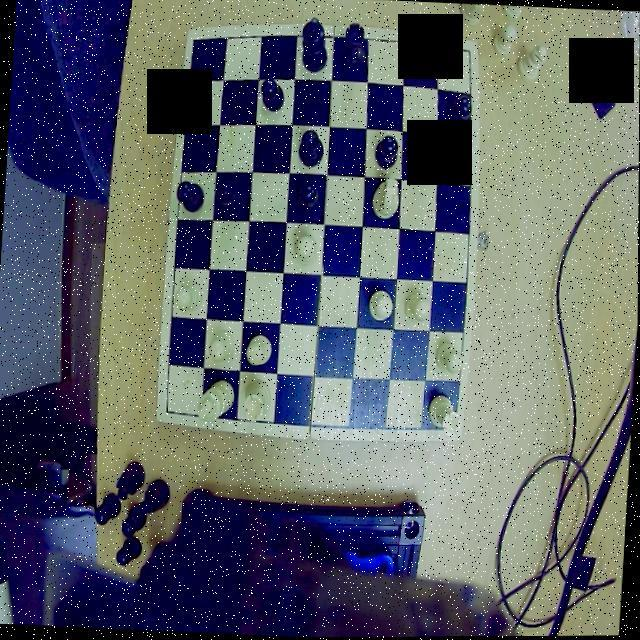chess-table-corners: (440, 414, 462, 439), (159, 401, 181, 424), (186, 28, 202, 58), (456, 41, 474, 64)
